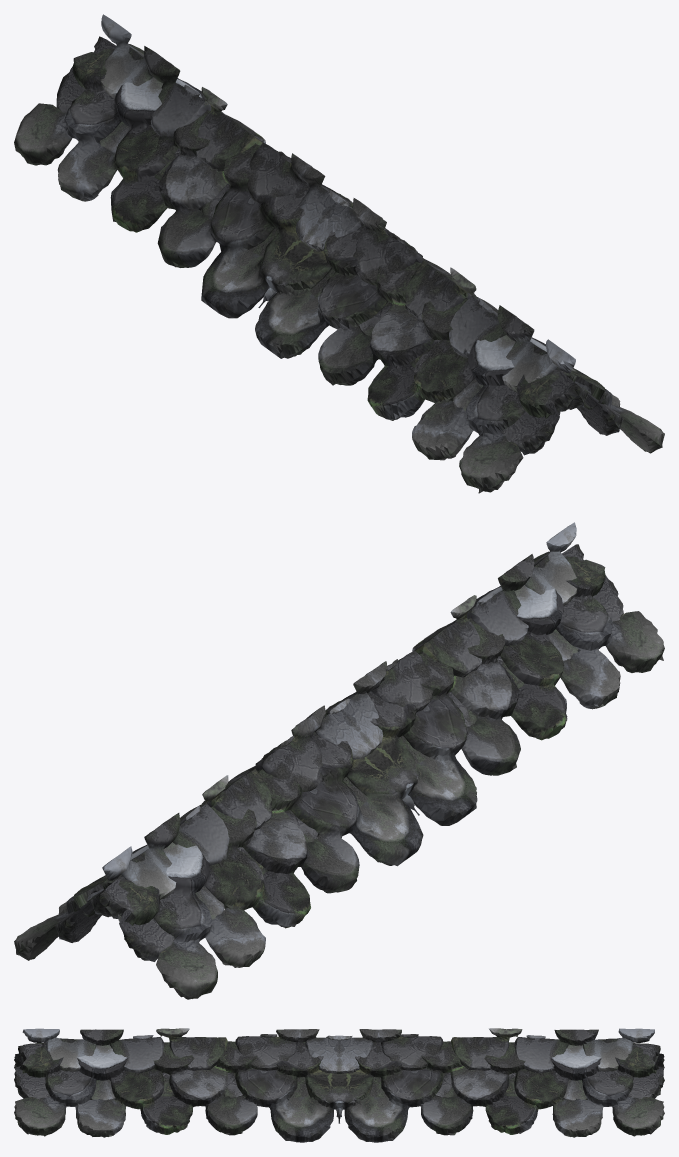
Rendered from SM_Roof_Cap_02.fbx.
3 views of the same model, one above another, from view 1: azimuth 30°, elevation 25°; view 2: azimuth 150°, elevation 25°; view 3: azimuth 270°, elevation 25° (orthographic). The views are drawn at different scales.
Visible parts, largest first — view 1: SM_Roof_Cap_02_LOD0; view 2: SM_Roof_Cap_02_LOD0; view 3: SM_Roof_Cap_02_LOD0.
Part boxes in pixels (x1,y1,x2,y2): SM_Roof_Cap_02_LOD0: (14,14,664,493); SM_Roof_Cap_02_LOD0: (14,522,664,999); SM_Roof_Cap_02_LOD0: (14,1028,664,1142).
Size of the model in its own units: 97.29 by 395 by 57.25.
